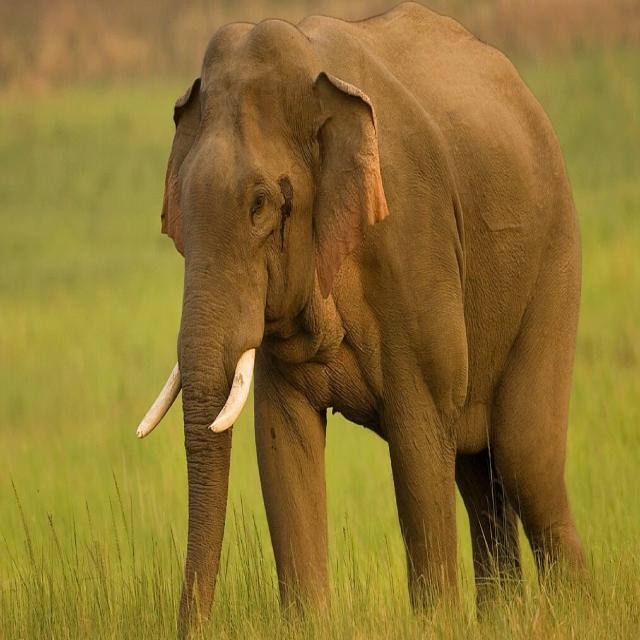Elephant: (132, 6, 591, 612)
